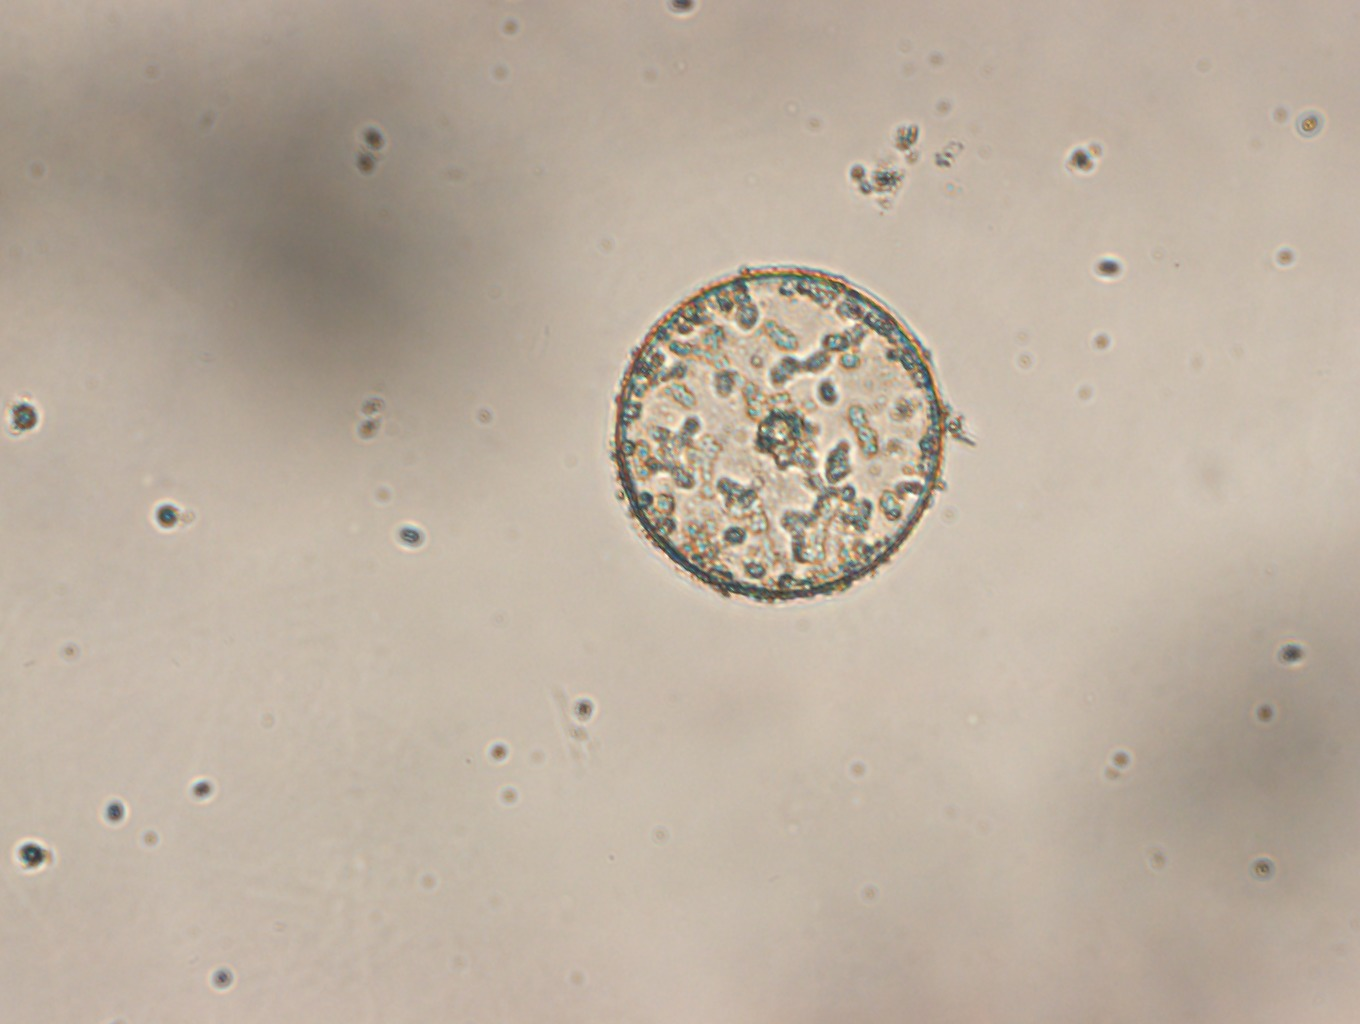coscinodiscus: (611, 264, 946, 602)
